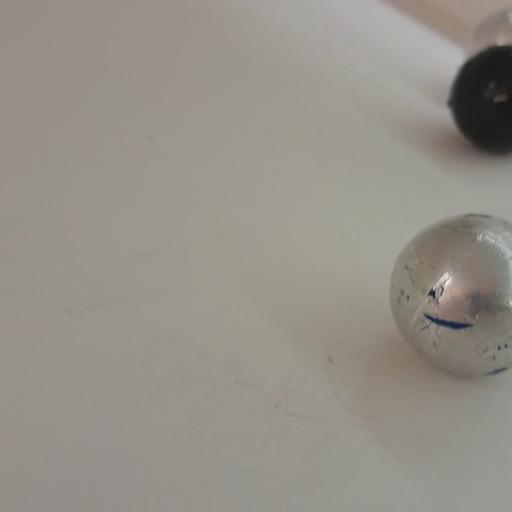alive: (385, 212, 512, 380), (474, 9, 512, 64)
dead: (447, 42, 512, 154)
